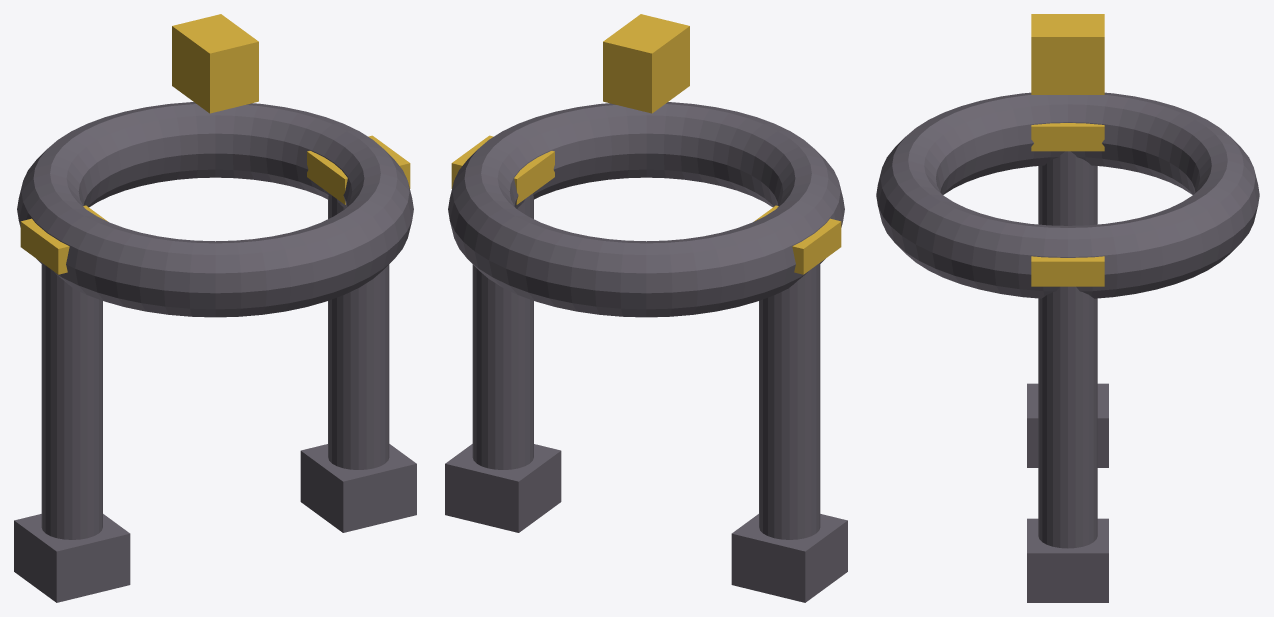
The model's file is archway_gothic.obj.
3 views of the same model, side by side, from view 1: azimuth 30°, elevation 25°; view 2: azimuth 150°, elevation 25°; view 3: azimuth 270°, elevation 25° (orthographic). The views are drawn at different scales.
Parts seen in each view (by area): view 1: Torus, Column_L, Column_R, Cube, Cube.002, Cube.004, Cube.001, Cube.003; view 2: Torus, Column_L, Column_R, Cube, Cube.002, Cube.004, Cube.001, Cube.003; view 3: Torus, Column_R, Cube.004, Cube.002, Column_L, Cube.003, Cube.001, Cube.
Boxes of the visible parts, x1,y1,x2,y2 form: Torus: (17,102,413,317); Column_L: (41,263,102,539); Column_R: (328,193,389,469); Cube: (14,514,130,602); Cube.002: (300,444,416,532); Cube.004: (172,14,258,113); Cube.001: (20,205,107,274); Cube.003: (307,135,410,204); Torus: (448,102,844,317); Column_L: (759,263,820,539); Column_R: (472,193,533,469); Cube: (731,514,847,602); Cube.002: (445,444,561,532); Cube.004: (603,14,689,113); Cube.001: (754,205,841,274); Cube.003: (451,135,554,204); Torus: (876,92,1259,298); Column_R: (1038,286,1097,548); Cube.004: (1031,14,1104,94); Cube.002: (1027,518,1108,602); Column_L: (1038,151,1097,225); Cube.003: (1031,256,1104,286); Cube.001: (1031,123,1104,151); Cube: (1027,383,1108,467).
Bounding box in the file's own units: 8.8 × 11.9 × 8.4.
